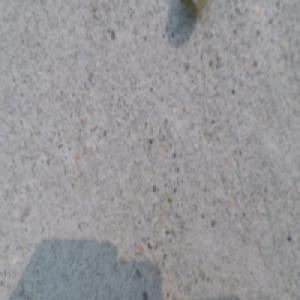BoltNutSet: (183, 1, 205, 20)
